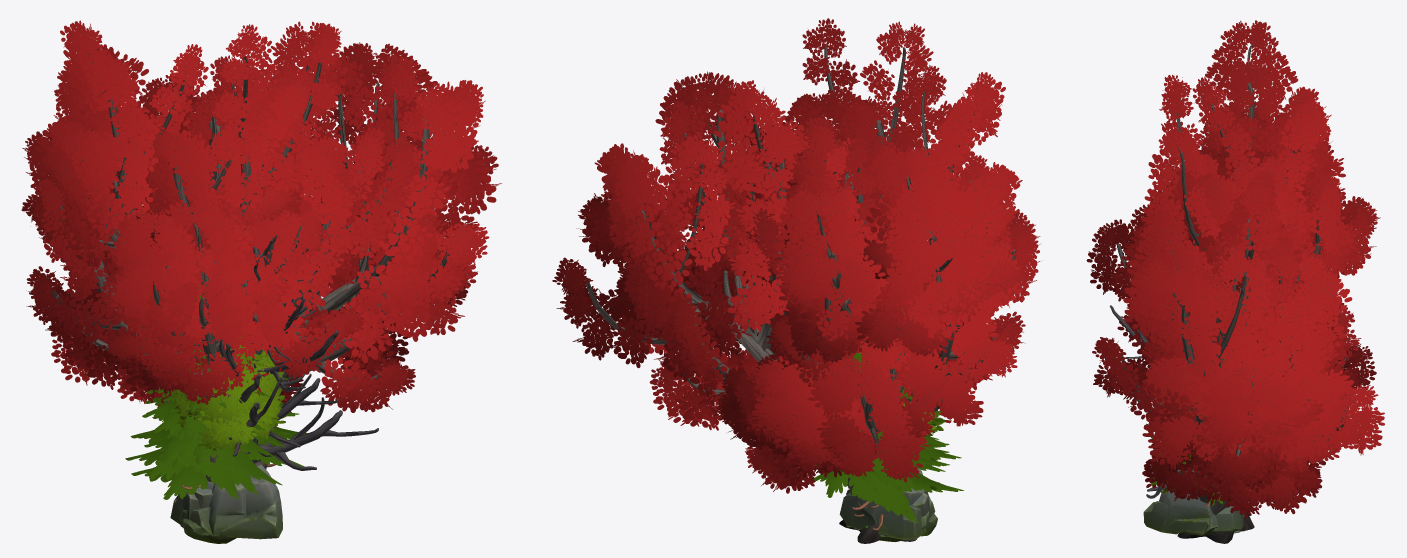
Rendered from megakit.glb.
3 views of the same model, side by side, from view 1: azimuth 30°, elevation 25°; view 2: azimuth 150°, elevation 25°; view 3: azimuth 270°, elevation 25° (orthographic). The views are drawn at different scales.
Visible parts, largest first — view 1: TwistedTree_2 (×2), TwistedTree_1 (×2), TwistedTree_3 (×2), DeadTree_2 (×2), Rock_Medium_3, Pine_2, Pine_5, Pine_4, CommonTree_3, CommonTree_2, CommonTree_1, Rock_Medium_1 (+2 smaller); view 2: TwistedTree_1 (×2), TwistedTree_2 (×2), TwistedTree_3, Pine_5, Rock_Medium_2, Pine_2, Pine_4; view 3: TwistedTree_1 (×2), TwistedTree_2, TwistedTree_3, Rock_Medium_3, Rock_Medium_2.
Part boxes in pixels (left/top/right/bottom): TwistedTree_2 (×2): left=21, top=20, right=341, bottom=481; TwistedTree_1 (×2): left=154, top=21, right=501, bottom=527; TwistedTree_3 (×2): left=50, top=55, right=421, bottom=412; DeadTree_2 (×2): left=180, top=219, right=378, bottom=470; Rock_Medium_3: left=183, top=464, right=282, bottom=543; Pine_2: left=131, top=410, right=291, bottom=499; Pine_5: left=125, top=369, right=307, bottom=494; Pine_4: left=130, top=245, right=288, bottom=489; CommonTree_3: left=180, top=337, right=284, bottom=427; CommonTree_2: left=171, top=343, right=284, bottom=452; CommonTree_1: left=173, top=347, right=286, bottom=450; Rock_Medium_1: left=179, top=482, right=246, bottom=536; TwistedTree_1 (×2): left=552, top=71, right=916, bottom=543; TwistedTree_2 (×2): left=752, top=18, right=1041, bottom=437; TwistedTree_3: left=714, top=89, right=1040, bottom=493; Pine_5: left=815, top=352, right=953, bottom=514; Rock_Medium_2: left=839, top=488, right=926, bottom=539; Pine_2: left=810, top=422, right=963, bottom=522; Pine_4: left=848, top=307, right=961, bottom=530; TwistedTree_1 (×2): left=1092, top=170, right=1384, bottom=543; TwistedTree_2: left=1123, top=20, right=1347, bottom=373; TwistedTree_3: left=1086, top=145, right=1380, bottom=509; Rock_Medium_3: left=1143, top=484, right=1213, bottom=534; Rock_Medium_2: left=1212, top=506, right=1243, bottom=532.
Size of the model in its own units: 17.96 by 19.08 by 11.71.
11 materials, 11 textured.
